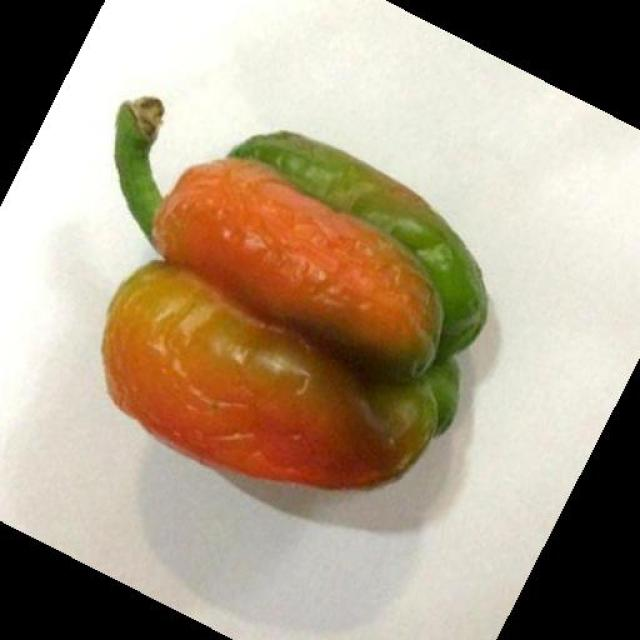Stale_Capsicum: (156, 92, 467, 496)
